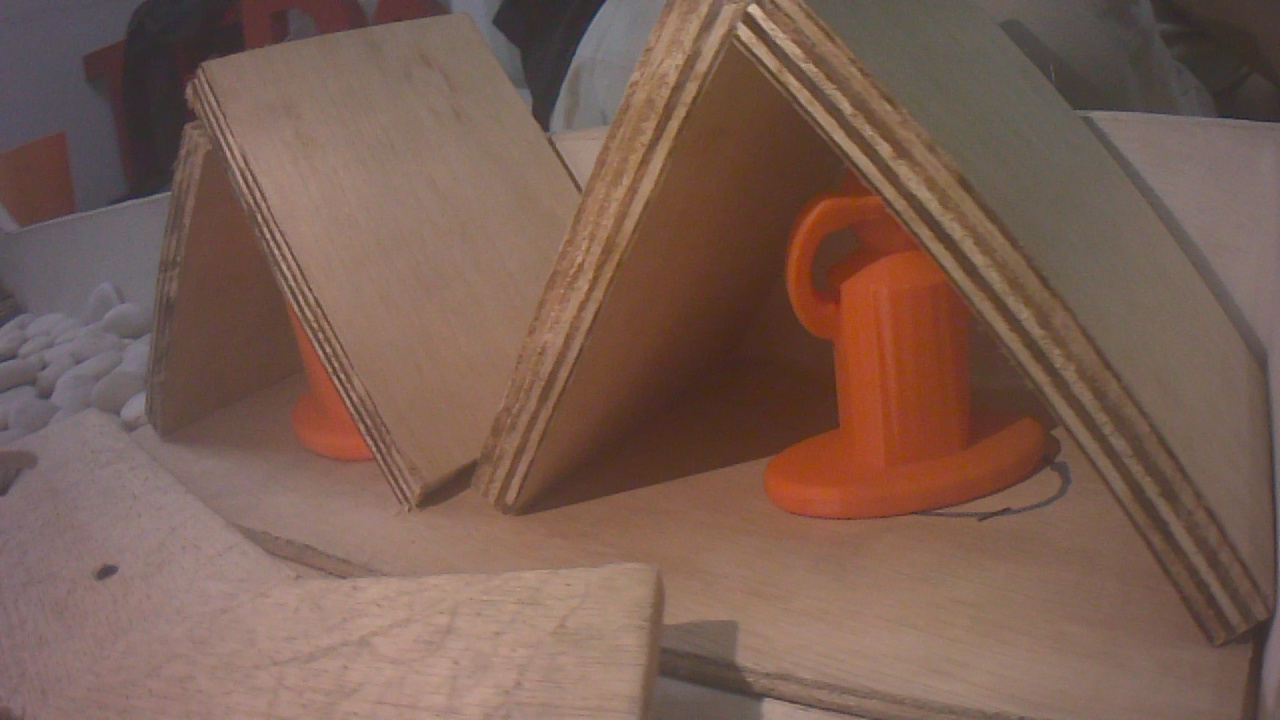real: (773, 165, 1045, 531)
